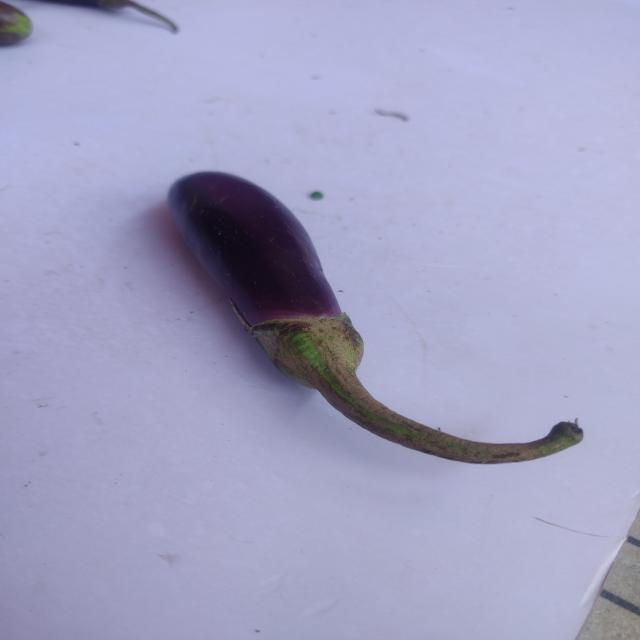Brinjal: (145, 157, 605, 488)
